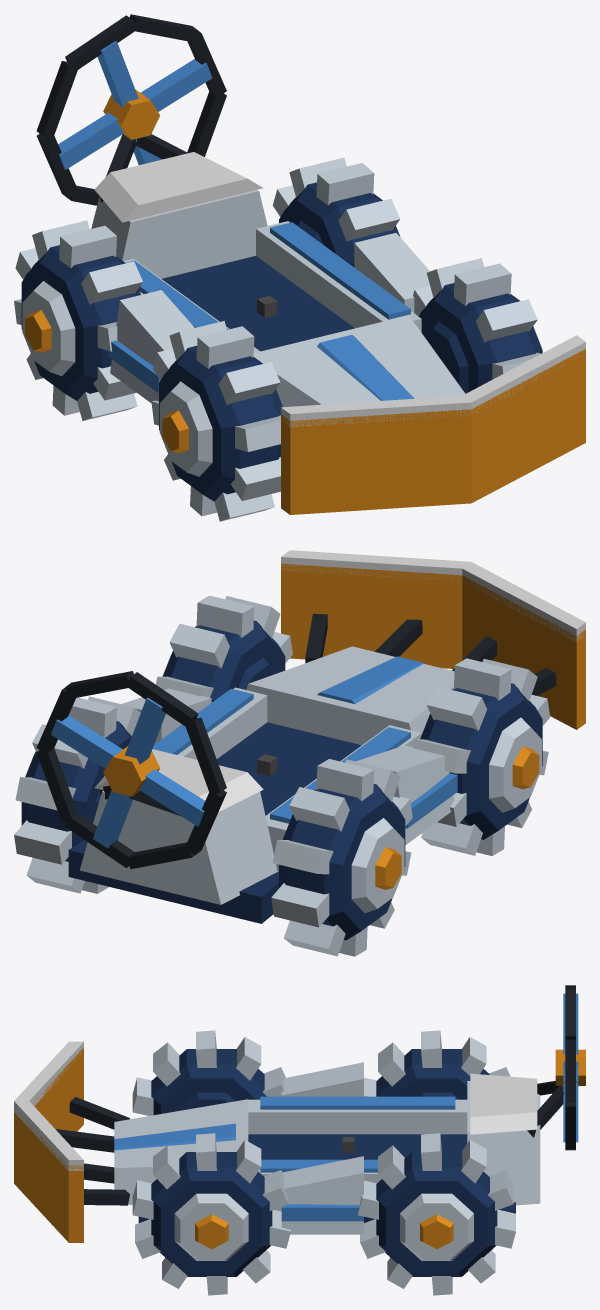
The model's file is kart-snowPeak.glb.
3 views of the same model, one above another, from view 1: azimuth 30°, elevation 25°; view 2: azimuth 150°, elevation 25°; view 3: azimuth 270°, elevation 25° (orthographic). The views are drawn at different scales.
Parts seen in each view (by area): view 1: kart-snowPeak, wheel-front-right, wheel-back-right, wheel-front-left, wheel-back-left; view 2: kart-snowPeak, wheel-back-right, wheel-front-right, wheel-back-left, wheel-front-left; view 3: kart-snowPeak, wheel-back-left, wheel-front-left, wheel-front-right, wheel-back-right.
Boxes of the visible parts, <box> form: kart-snowPeak: <box>36,14,585,514</box>; wheel-front-right: <box>151,321,282,521</box>; wheel-back-right: <box>14,220,142,420</box>; wheel-front-left: <box>413,258,542,393</box>; wheel-back-left: <box>272,157,400,266</box>; kart-snowPeak: <box>36,550,585,923</box>; wheel-back-right: <box>271,759,412,956</box>; wheel-front-right: <box>413,658,550,855</box>; wheel-back-left: <box>14,696,140,893</box>; wheel-front-left: <box>156,595,292,702</box>; kart-snowPeak: <box>14,985,585,1242</box>; wheel-back-left: <box>357,1133,515,1295</box>; wheel-front-left: <box>132,1133,290,1295</box>; wheel-front-right: <box>132,1030,285,1115</box>; wheel-back-right: <box>364,1030,510,1099</box>.
Size of the model in its own units: 1.12 by 0.8929 by 1.88.
